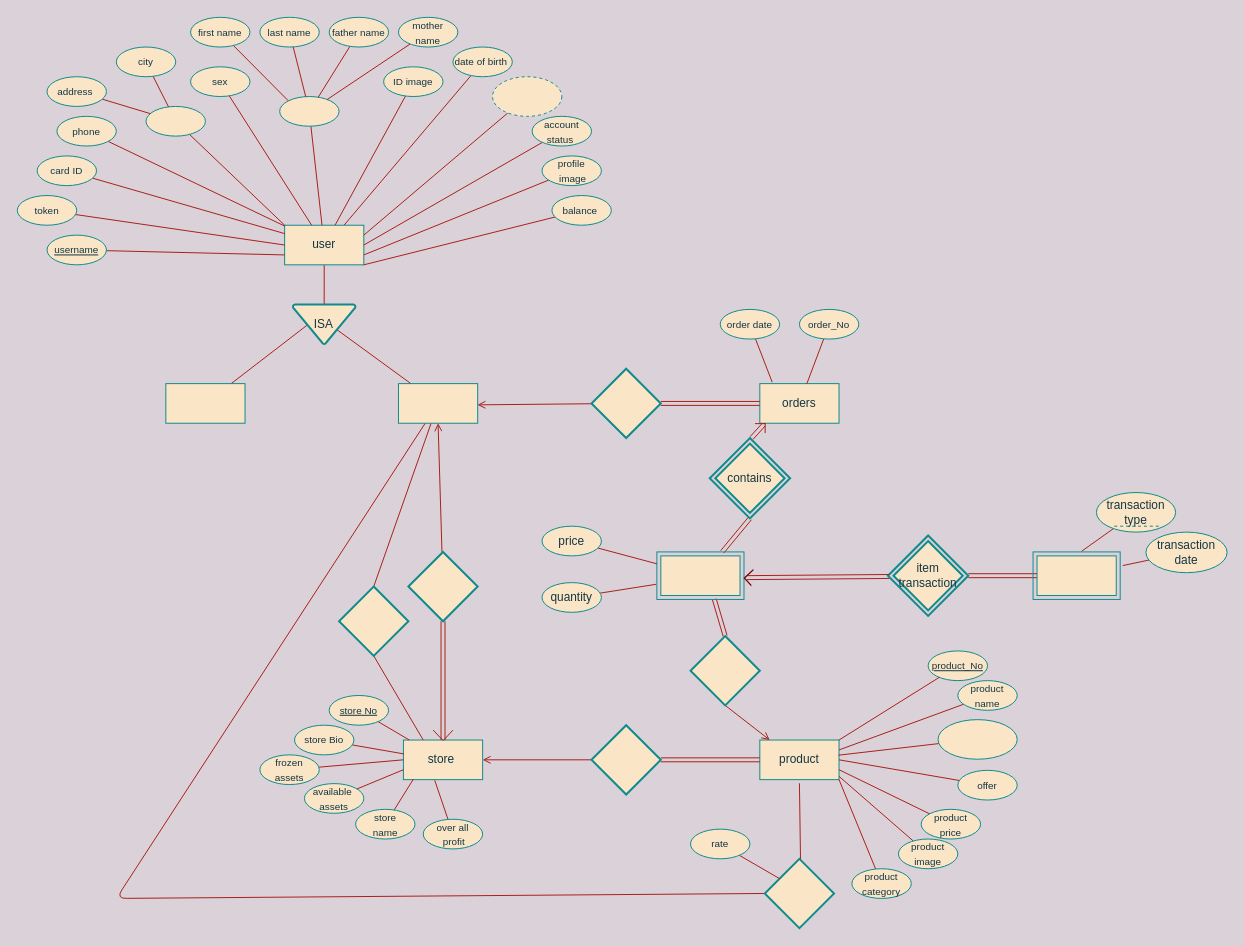
Image size: 1244x946. Some labels were removed from this diagram. The shapes that lost their labels are listed below. From the top down, each one's box as (x1, y1, x2, y2) in pixels, then its label:
(279, 96, 339, 126): full name
(492, 76, 562, 116): account creation date
(145, 105, 205, 136): location
(165, 383, 245, 423): employee
(397, 383, 478, 423): customer
(590, 367, 661, 439): customer orders
(407, 550, 478, 622): Owns
(660, 555, 740, 595): order items
(1036, 555, 1116, 595): transaction
(338, 585, 409, 656): follow
(689, 635, 760, 706): contained product
(937, 719, 1017, 759): product description
(590, 724, 661, 795): Have
(763, 857, 835, 929): Product rate
